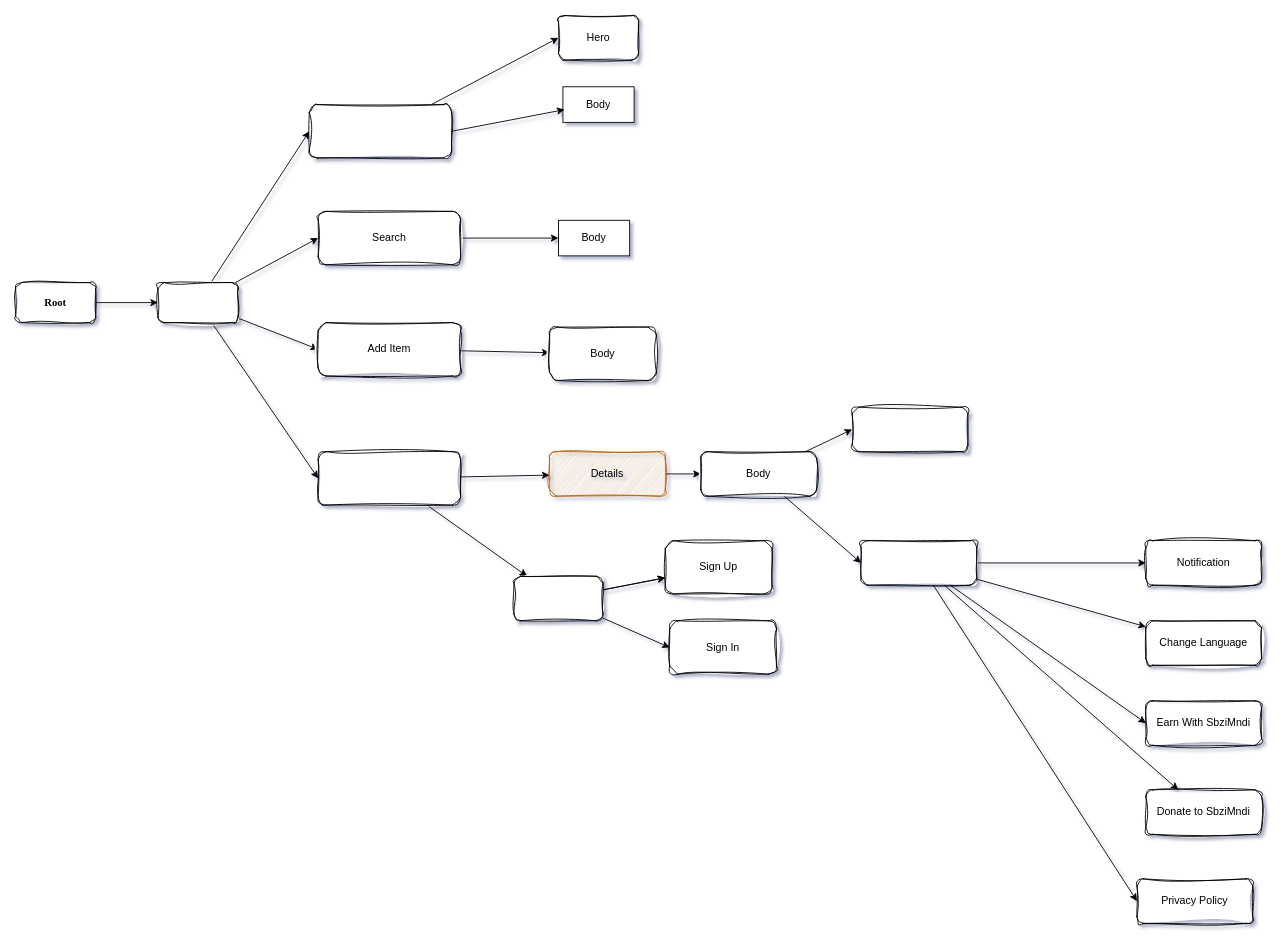
Image size: 1282x944. Some labels were removed from this diagram. The shapes that lost their labels are listed below. From the top down, each one's box as (x1, y1, x2, y2) in pixels, then its label:
(308, 104, 452, 158): Home
(157, 282, 238, 323): Tab
(851, 406, 968, 452): Edit Profile
(317, 451, 461, 505): Profile
(860, 540, 977, 585): Settings
(513, 575, 603, 621): Options
